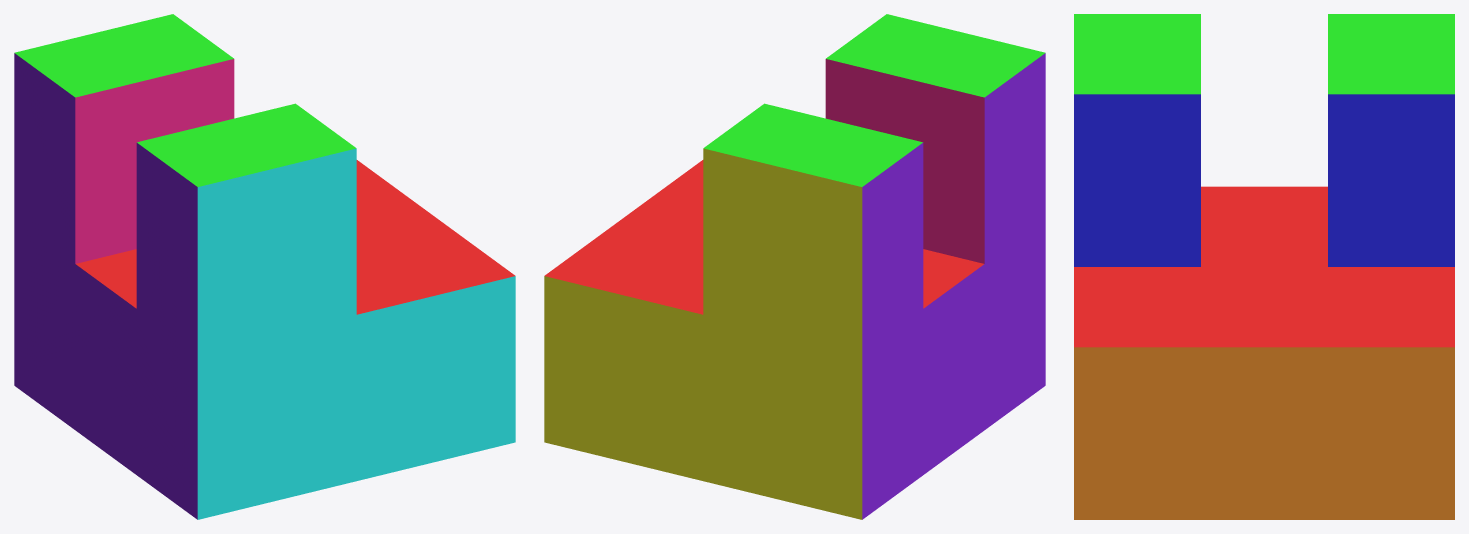
The picture shows the model from 3 angles, left to right: view 1: azimuth 30°, elevation 25°; view 2: azimuth 150°, elevation 25°; view 3: azimuth 270°, elevation 25°; orthographic projection. The views are drawn at different scales.
Visible parts, largest first — view 1: G-Object; view 2: G-Object; view 3: G-Object.
Boxes of the visible parts, bbox=[...] form: G-Object: bbox=[14, 14, 515, 519]; G-Object: bbox=[544, 14, 1045, 519]; G-Object: bbox=[1074, 14, 1454, 519].
Bounding box in the file's own units: 0.6096 × 0.6096 × 0.6096.
